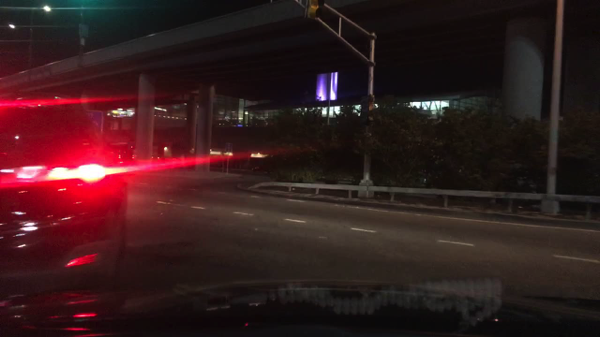car: (0, 92, 129, 301)
traffic light: (308, 1, 325, 22)
traffic sign: (84, 109, 107, 138), (224, 141, 234, 154)
